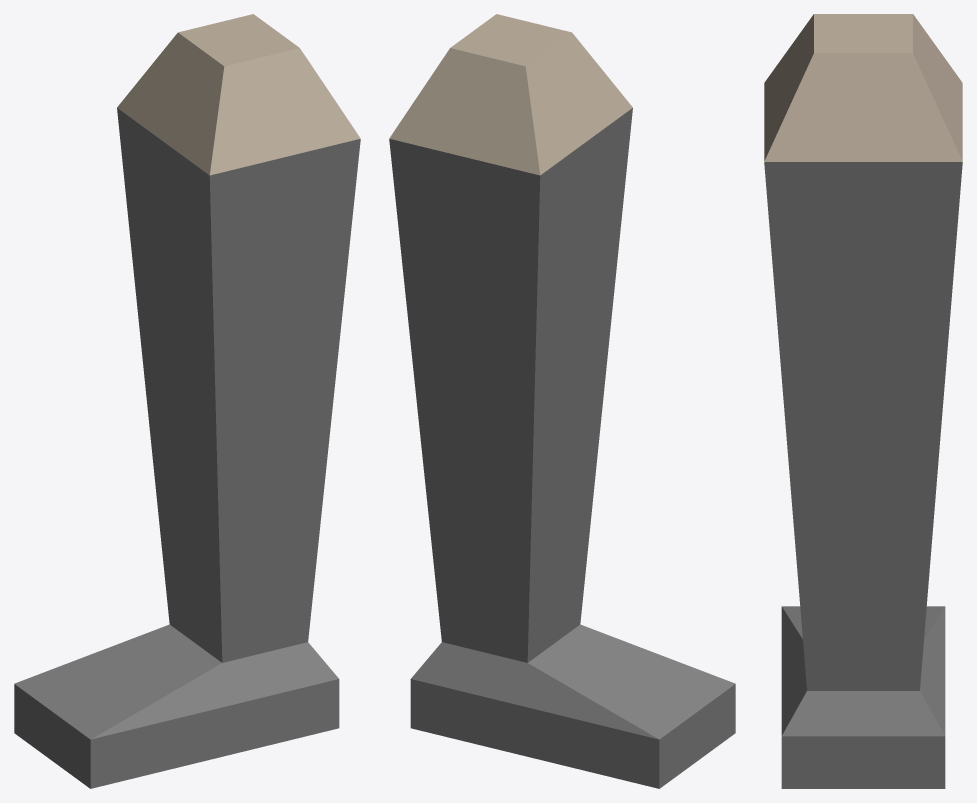
The model's file is Bandit4LowerLeg.fbx.
3 renders of one model, left to right at view 1: azimuth 30°, elevation 25°; view 2: azimuth 150°, elevation 25°; view 3: azimuth 270°, elevation 25°, orthographic. The views are drawn at different scales.
Parts seen in each view (by area): view 1: Bandit4LowerLeg; view 2: Bandit4LowerLeg; view 3: Bandit4LowerLeg.
Boxes of the visible parts, bbox=[...] form: Bandit4LowerLeg: bbox=[14, 14, 360, 788]; Bandit4LowerLeg: bbox=[389, 14, 735, 788]; Bandit4LowerLeg: bbox=[764, 14, 962, 788].
Size of the model in its own units: 0.272 by 0.6698 by 0.1668.
